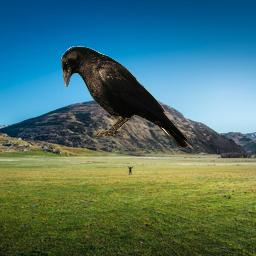Crow: (61, 46, 190, 148)
